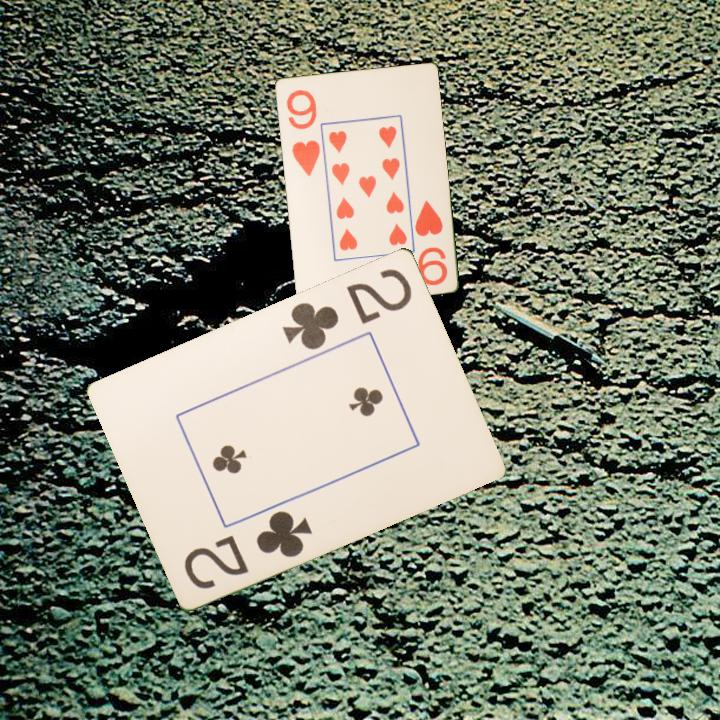2c: (279, 264, 415, 353), (180, 506, 316, 592)
9h: (283, 86, 323, 179), (411, 196, 450, 288)
